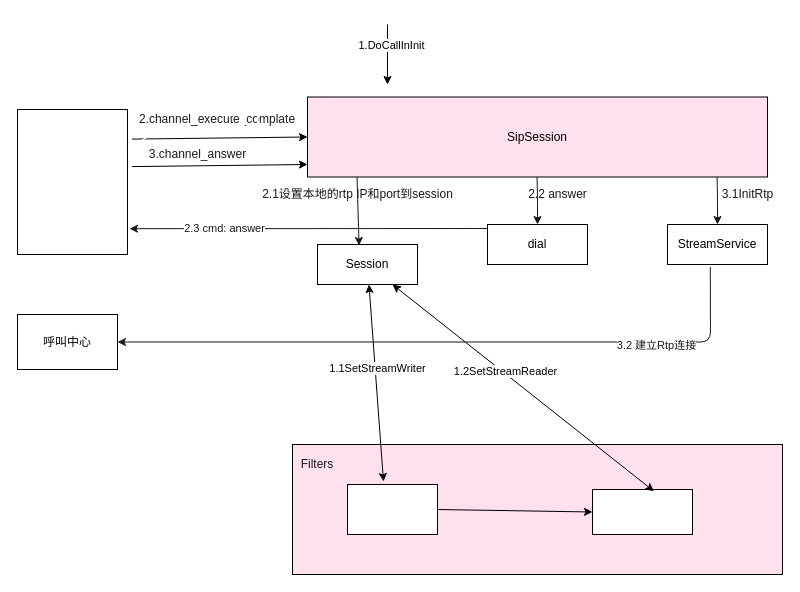
The diagram is 800 pixels wide and 592 high, and some of its shapes have lost their labels. The centre of each missing label's shape, as x and y in pixels:
freeswitch: [72,181]
SipinInputor: [642,511]
SipOut Filter: [392,509]
